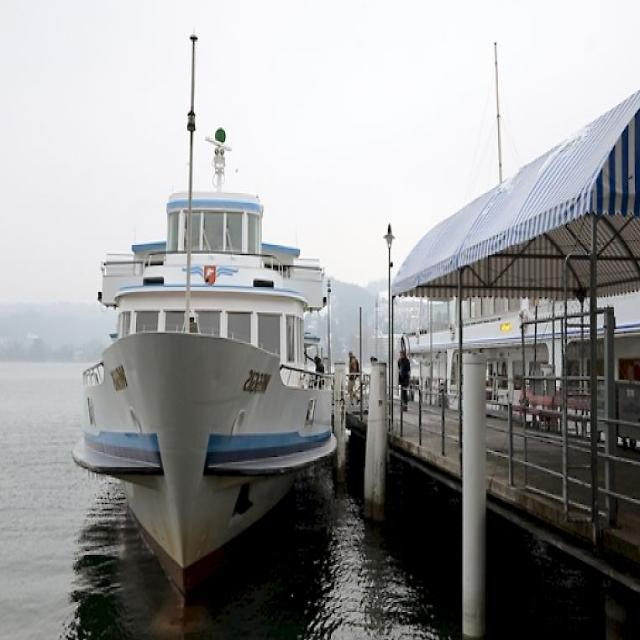passenger ship: (80, 170, 336, 560)
